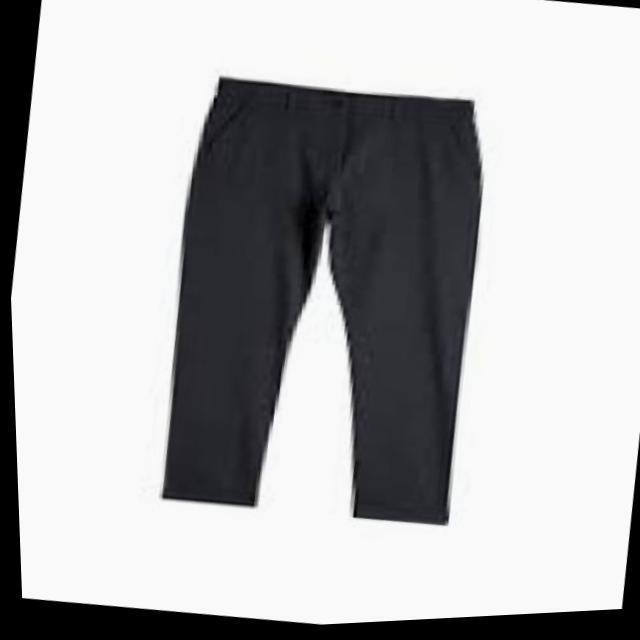pants: (160, 78, 481, 527)
